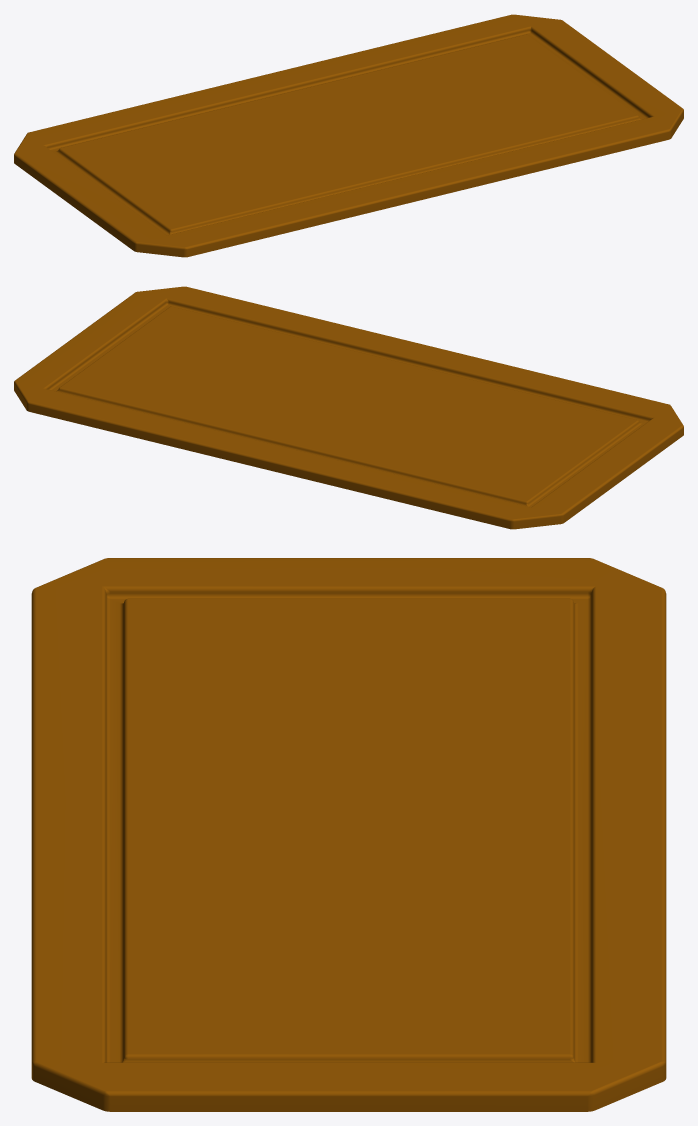
Rendered from Floor_Lamp_06.fbx.
3 views of the same model, one above another, from view 1: azimuth 30°, elevation 25°; view 2: azimuth 150°, elevation 25°; view 3: azimuth 270°, elevation 25° (orthographic). The views are drawn at different scales.
Visible parts, largest first — view 1: Floor_Lamp_06; view 2: Floor_Lamp_06; view 3: Floor_Lamp_06.
Boxes of the visible parts, <box> form: Floor_Lamp_06: <box>14,14,683,257</box>; Floor_Lamp_06: <box>14,286,683,529</box>; Floor_Lamp_06: <box>31,558,666,1111</box>.
Size of the model in its own units: 60 by 1 by 30.
